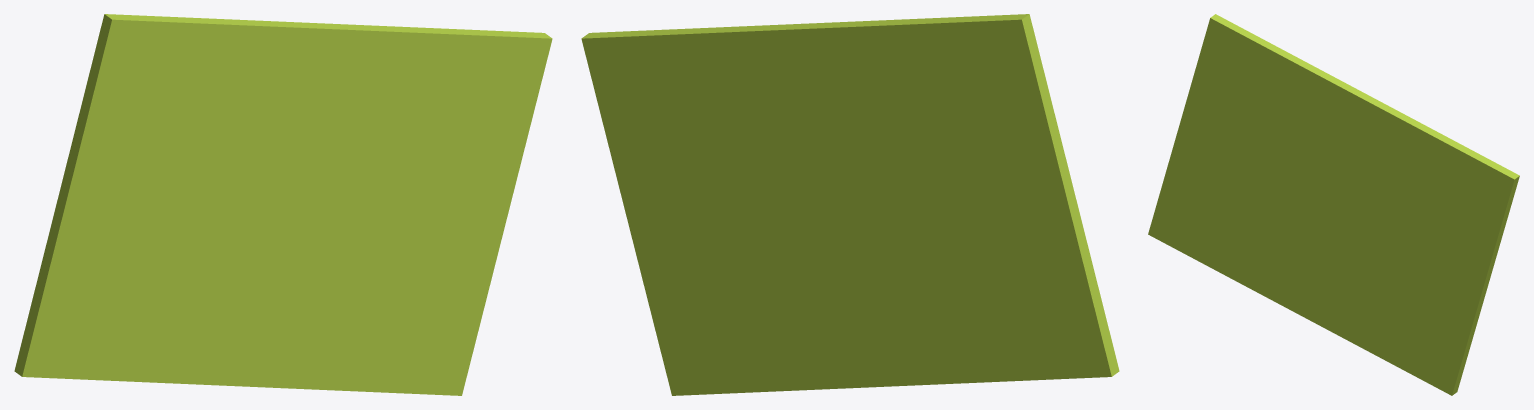
The picture shows the model from 3 angles, left to right: view 1: azimuth 30°, elevation 25°; view 2: azimuth 150°, elevation 25°; view 3: azimuth 330°, elevation 25°; orthographic projection. The views are drawn at different scales.
Parts seen in each view (by area): view 1: osm-way27917482-F1; view 2: osm-way27917482-F1; view 3: osm-way27917482-F1.
Boxes of the visible parts, x1,y1,x2,y2 form: osm-way27917482-F1: (14,14,552,395); osm-way27917482-F1: (581,14,1119,395); osm-way27917482-F1: (1148,14,1519,395).
Bounding box in the file's own units: 5.91 × 4.91 × 0.15.
